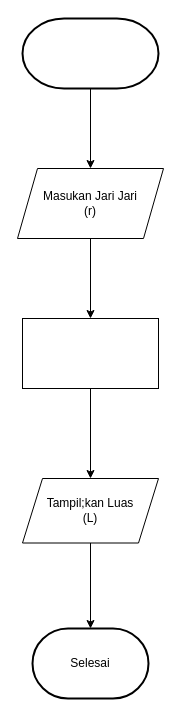
This 181x716 diagram has some shape labels left out. Here are the shapes that lost their labels. From the top down, the centre of each, then its label:
At point 90,53: "Mulai".
At point 90,353: "L = Phi * r * r Phi = 22/7 Or 3.14".
